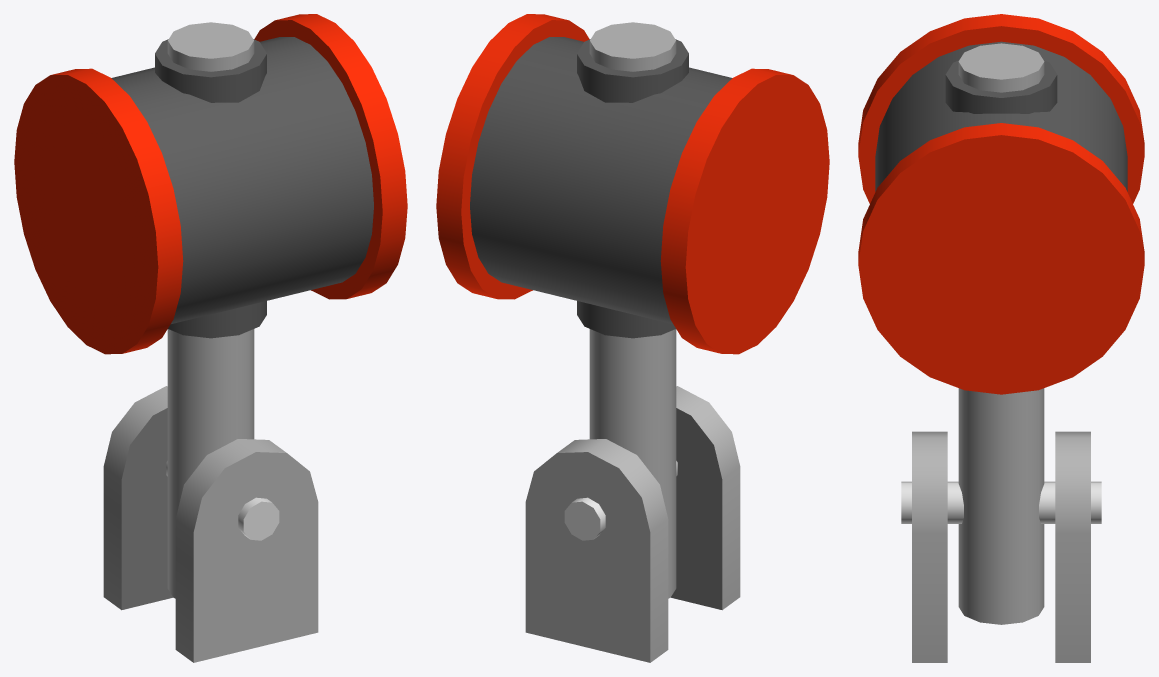
File: HammerBothSideAnimation.fbx
The picture shows the model from 3 angles, left to right: view 1: azimuth 30°, elevation 25°; view 2: azimuth 150°, elevation 25°; view 3: azimuth 270°, elevation 25°; orthographic projection.
Visible parts, largest first — view 1: hammer middle, hammer middle handle; view 2: hammer middle, hammer middle handle; view 3: hammer middle, hammer middle handle.
Boxes of the visible parts, box(x1,y1,x2,y2) form: hammer middle: box(14, 14, 407, 598); hammer middle handle: box(103, 386, 318, 662); hammer middle: box(436, 14, 829, 598); hammer middle handle: box(525, 386, 740, 662); hammer middle: box(858, 14, 1144, 624); hammer middle handle: box(901, 431, 1101, 662).
Size of the model in its own units: 2 by 4.4 by 2.
